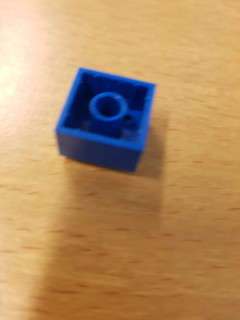2x2 blue: (51, 66, 158, 176)
